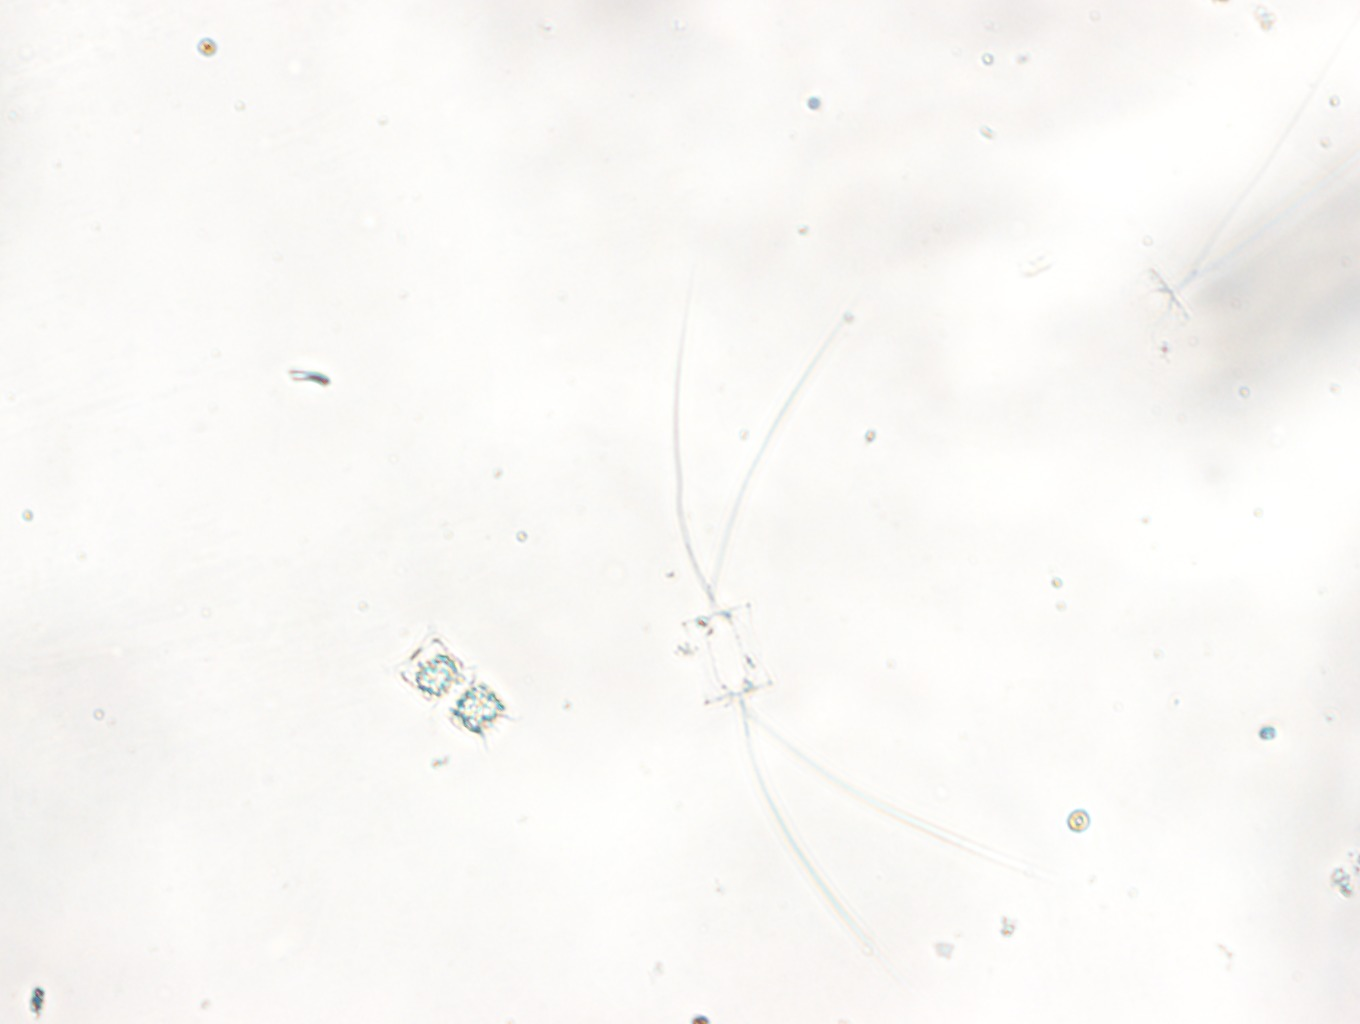chaetoceros: (673, 289, 1014, 942)
